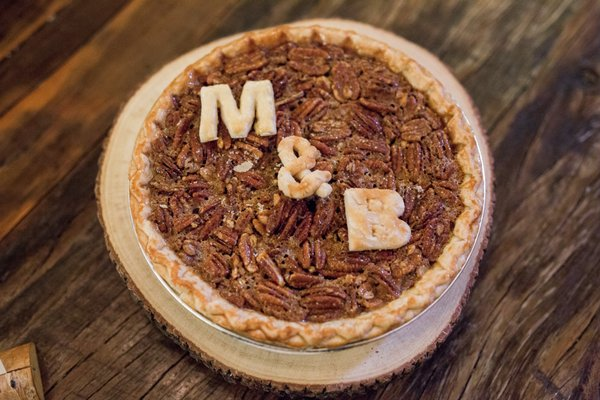curry: (13, 0, 598, 392)
sandwich: (129, 23, 482, 351)
